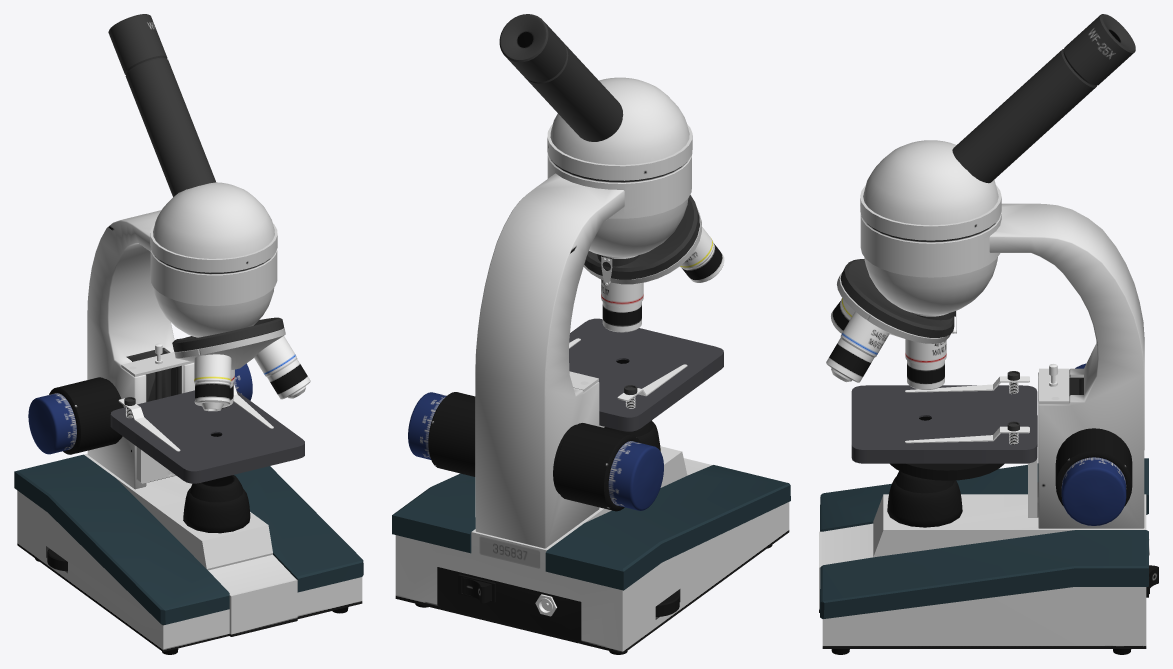
3 renders of one model, left to right at view 1: azimuth 30°, elevation 25°; view 2: azimuth 150°, elevation 25°; view 3: azimuth 270°, elevation 25°, orthographic. The views are drawn at different scales.
Visible parts, largest first — view 1: Microscope; view 2: Microscope; view 3: Microscope.
Boxes of the visible parts, bbox=[...] form: Microscope: bbox=[14, 14, 363, 654]; Microscope: bbox=[392, 14, 790, 654]; Microscope: bbox=[819, 14, 1158, 654].
Bounding box in the file's own units: 13.46 × 32.73 × 17.15.
Materials: 1 (1 with a texture image).
